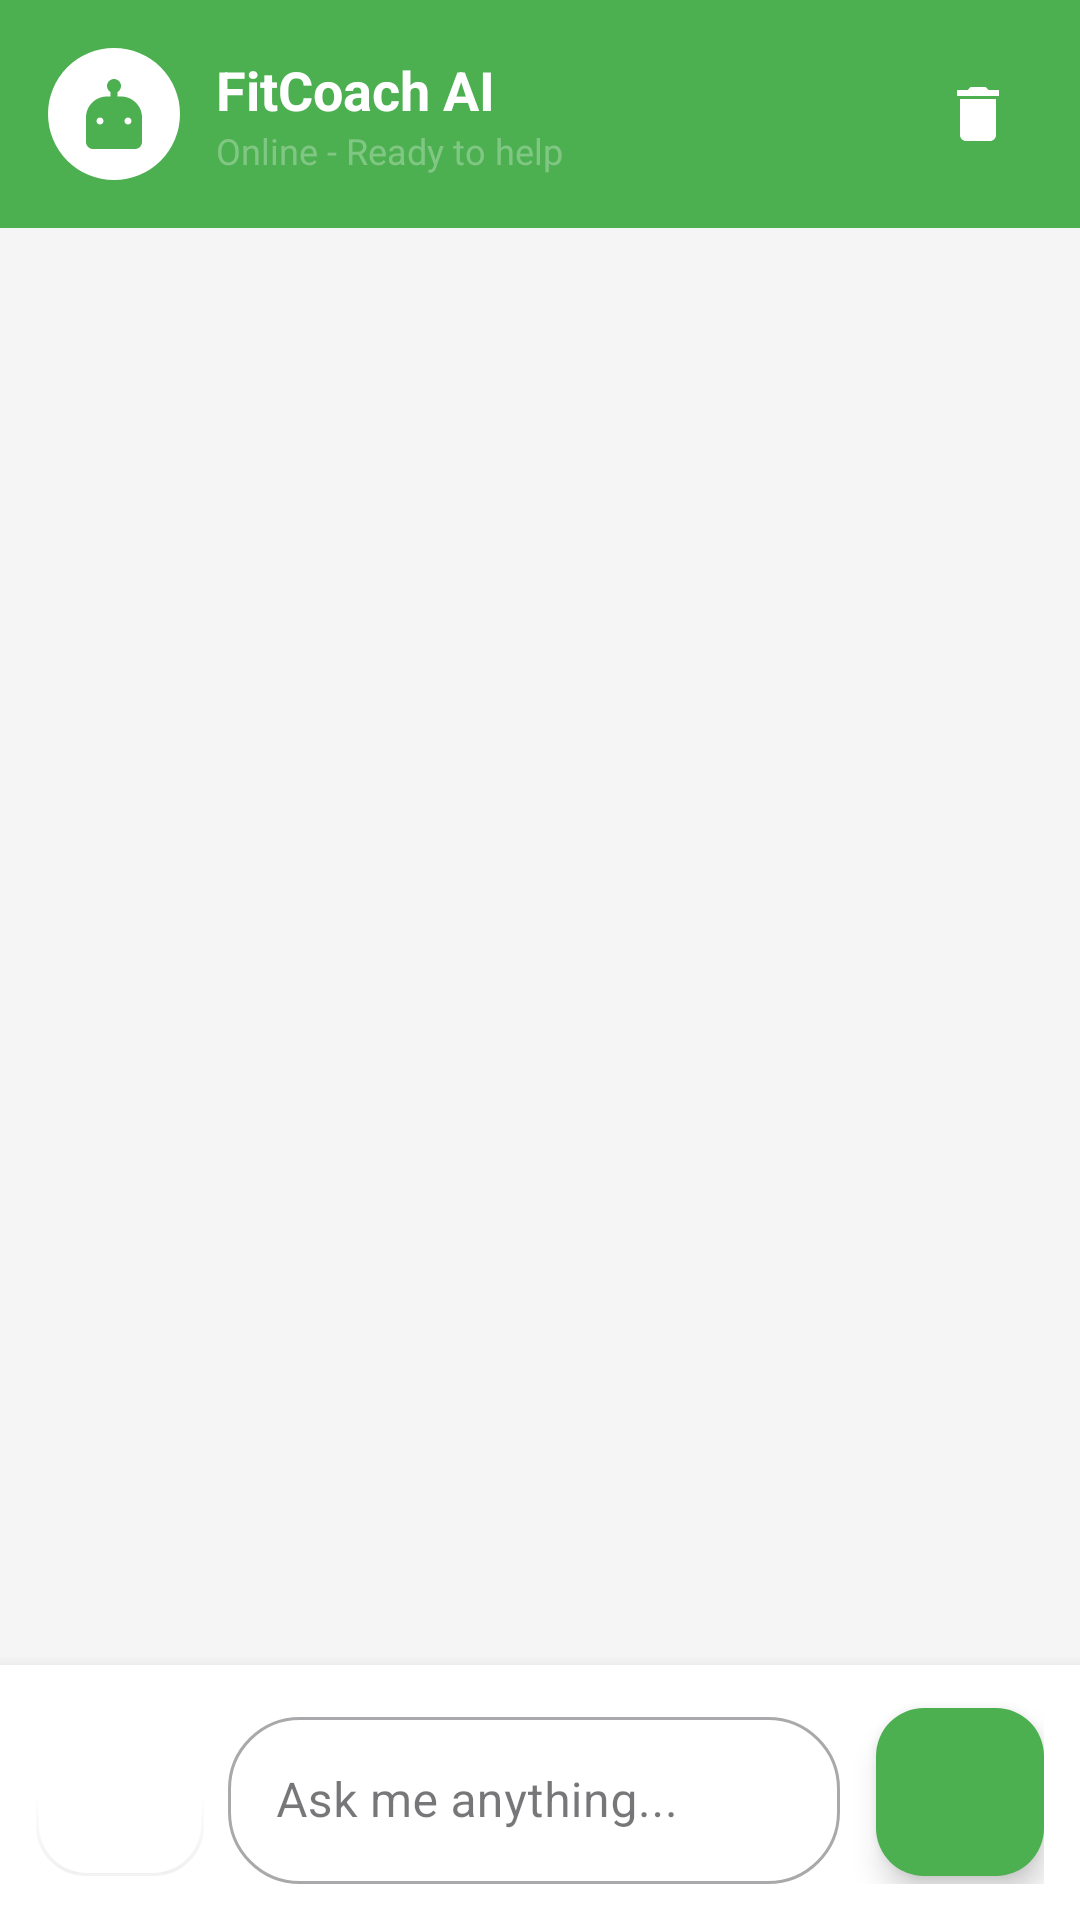

Screen size 1080w x 1920h. Icon name, then its box in pixels as (x1, y1, x2, y2):
ai assistant: (86, 79, 142, 149)
Clear chat: (957, 87, 999, 141)
